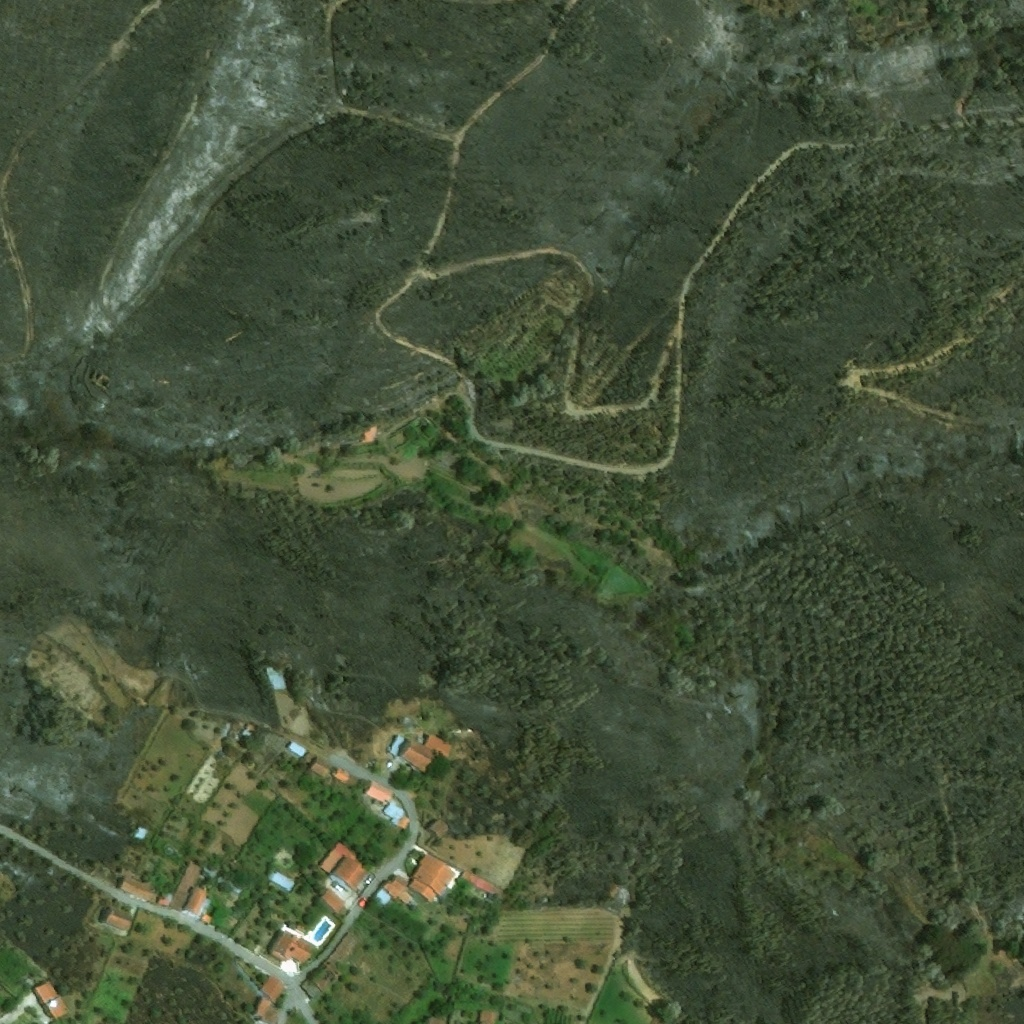0 no-damage: (385, 731, 455, 774), (318, 841, 372, 894), (409, 853, 456, 902), (169, 859, 209, 914), (269, 923, 316, 964), (459, 867, 508, 903), (33, 980, 70, 1019), (120, 868, 158, 899), (382, 875, 413, 907), (383, 800, 411, 830), (320, 887, 346, 915), (364, 781, 393, 805), (261, 975, 285, 1004), (106, 905, 133, 930), (253, 996, 278, 1023), (310, 757, 332, 778), (426, 819, 448, 837), (287, 741, 306, 758), (331, 768, 349, 784), (479, 1009, 494, 1023), (157, 893, 171, 907)
2 major-damage: (244, 722, 259, 736)
3 destroyed: (264, 666, 288, 693)
